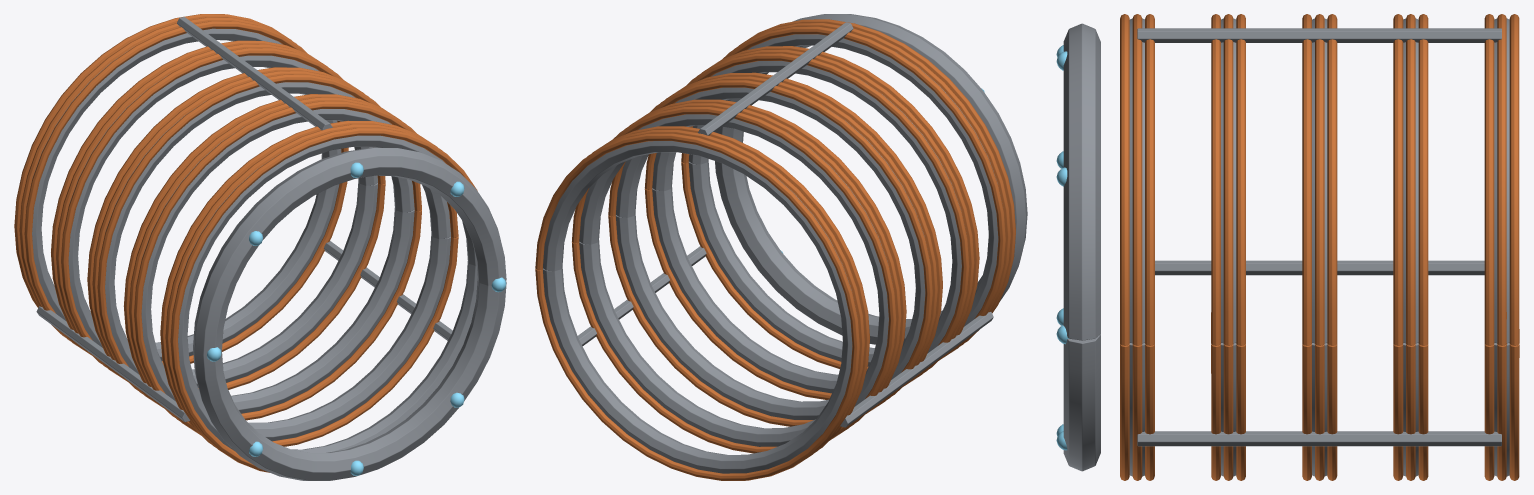
The model's file is vortex_engine_ep.fbx.
3 views of the same model, side by side, from view 1: azimuth 30°, elevation 25°; view 2: azimuth 150°, elevation 25°; view 3: azimuth 270°, elevation 25° (orthographic). The views are drawn at different scales.
Parts seen in each view (by area): view 1: Engine_Coils; view 2: Engine_Coils; view 3: Engine_Coils.
Boxes of the visible parts, x1,y1,x2,y2 form: Engine_Coils: (14,14,506,480); Engine_Coils: (535,14,1027,480); Engine_Coils: (1056,14,1519,480).
Size of the model in its own units: 74.43 by 75.47 by 73.76.
